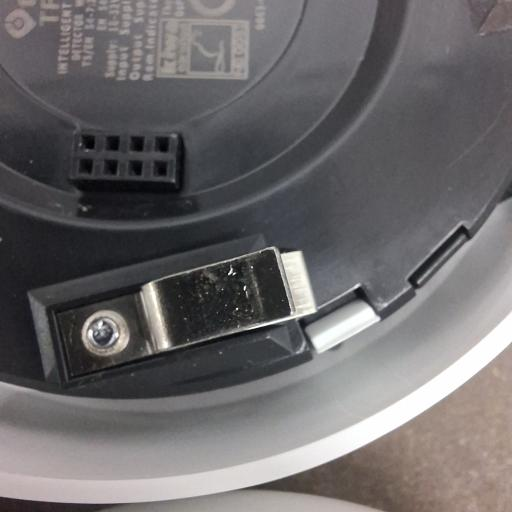yayli: (41, 242, 315, 388)
